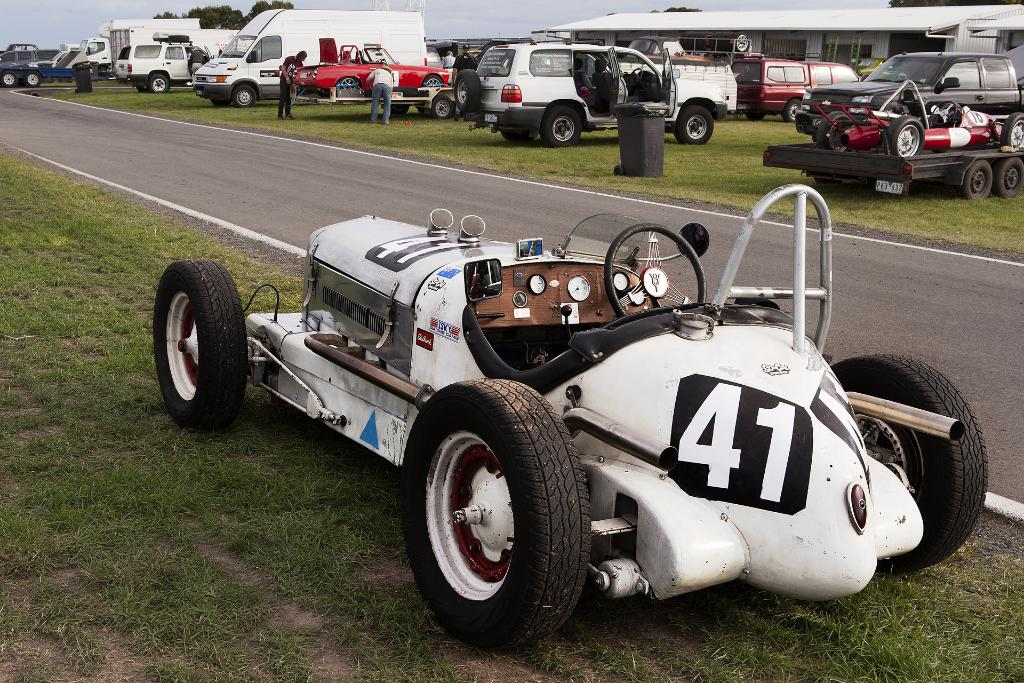cars: (154, 186, 986, 653), (456, 41, 724, 145), (797, 50, 1023, 144), (291, 44, 444, 102), (0, 44, 79, 86)
